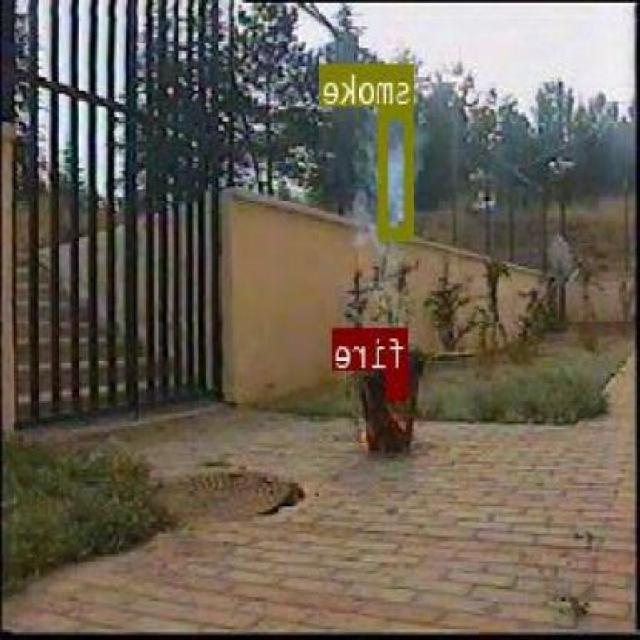Fire: (388, 368, 409, 398)
Smoke: (382, 104, 416, 236)
